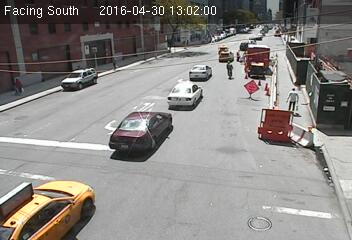neg: (240, 32, 261, 60), (149, 42, 169, 68), (218, 54, 236, 78), (251, 73, 265, 92), (202, 32, 212, 44), (177, 34, 186, 46)
pos: (284, 85, 306, 115), (7, 74, 26, 98), (109, 55, 121, 71)
